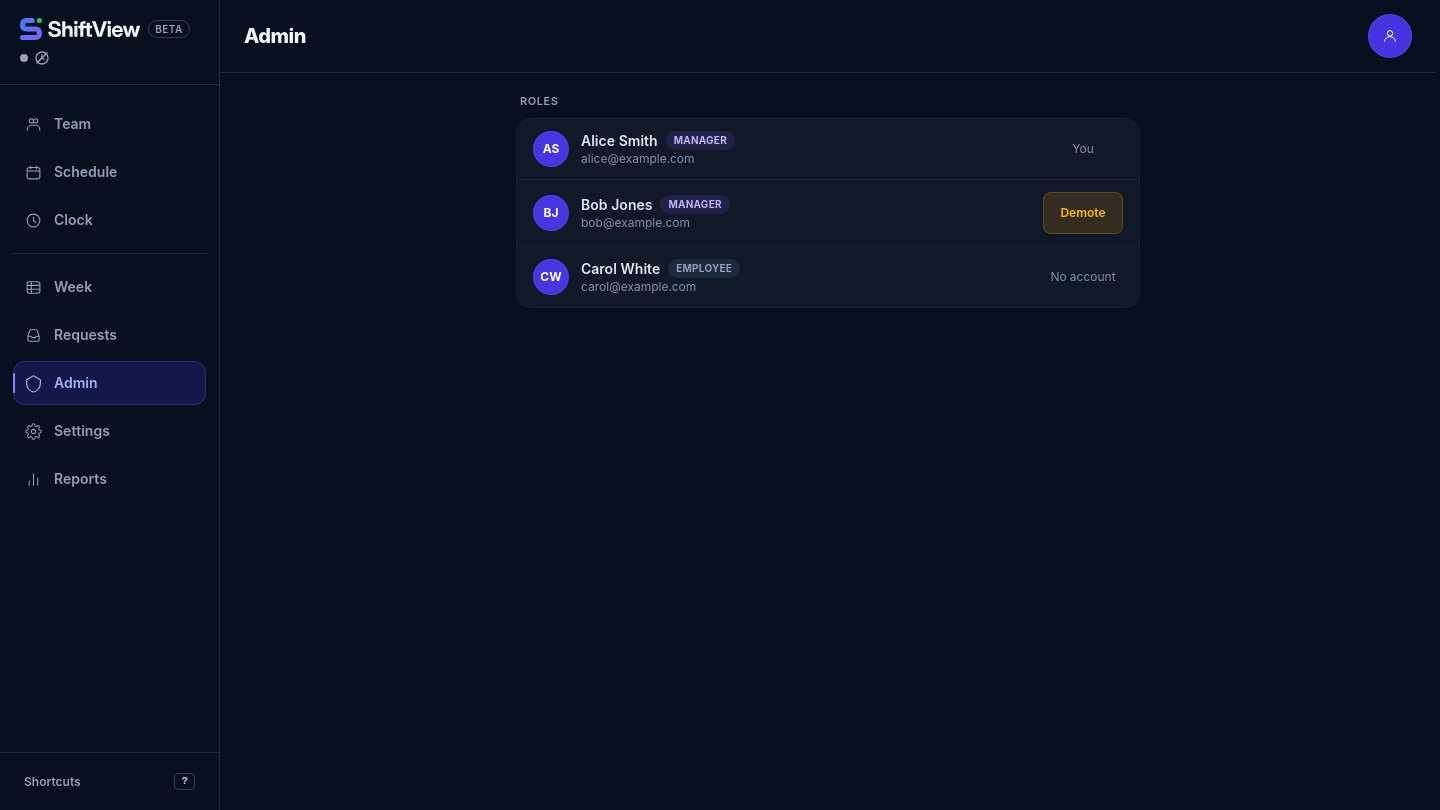
AdminPageClient › reverts the toggle and shows an error message when the API returns an error
This screenshot has width=1440, height=810.
Expected: the text "Bob Jones" is shown, [581,194,652,214]
Click the button with aria-label "demote bob".
click(1083, 212)  # box [1043,192,1123,234]
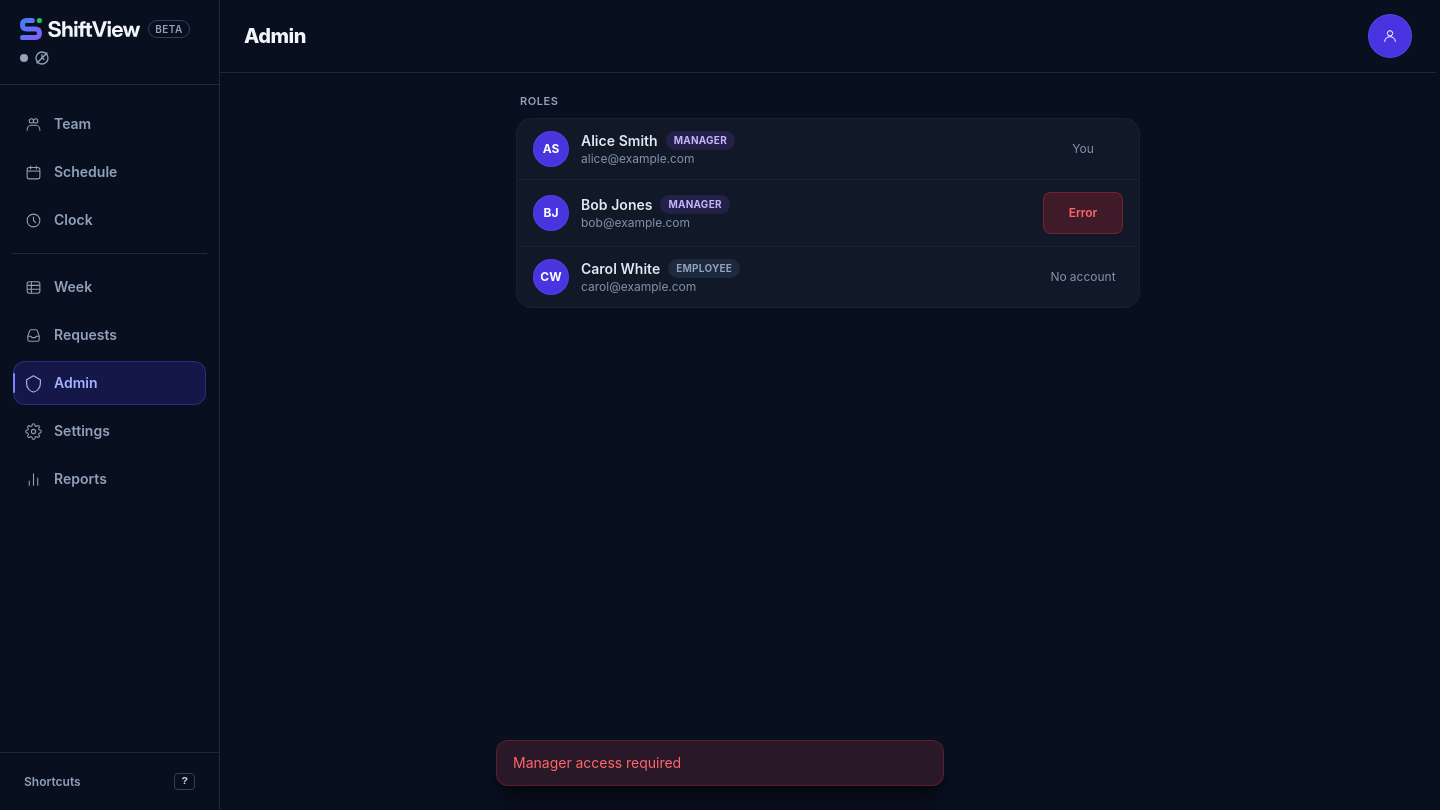
Expected: the text "Manager access required" is shown, [513,754,681,771]
